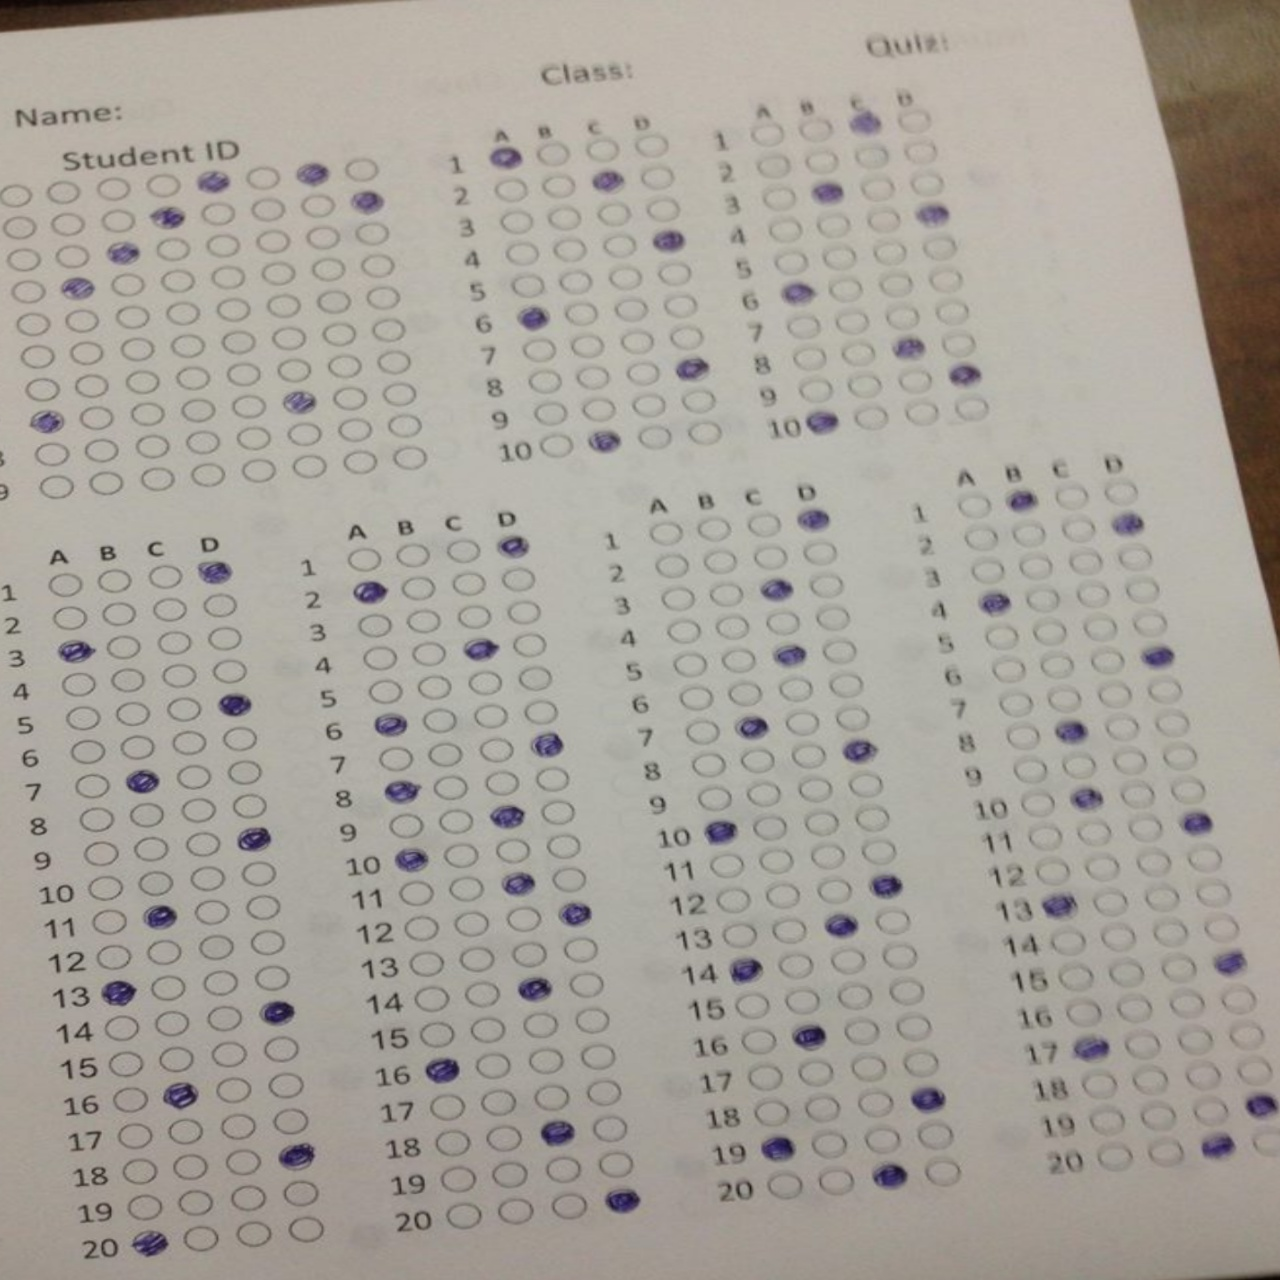not-c: (1091, 1142, 1139, 1173), (1226, 1020, 1269, 1053), (161, 1115, 206, 1145), (1156, 953, 1201, 983), (284, 1214, 331, 1244), (1080, 1069, 1122, 1101), (211, 1077, 256, 1107), (1146, 1136, 1189, 1166), (224, 1149, 266, 1178), (383, 811, 425, 840), (1131, 611, 1173, 640), (1122, 1032, 1167, 1058), (210, 1037, 248, 1069), (809, 840, 847, 872), (566, 971, 610, 999), (768, 917, 811, 945), (467, 1016, 508, 1046), (840, 1016, 881, 1046), (1065, 999, 1107, 1028), (1216, 987, 1257, 1016), (459, 944, 496, 976), (1179, 1024, 1216, 1057), (263, 292, 305, 320), (266, 1070, 308, 1098), (124, 1194, 166, 1223), (918, 234, 960, 263), (813, 605, 856, 633), (115, 1158, 161, 1184), (195, 935, 238, 962), (554, 271, 598, 298), (440, 1201, 483, 1228), (816, 243, 859, 270), (796, 1058, 839, 1085), (1104, 959, 1148, 986), (1183, 1064, 1226, 1091), (116, 1122, 156, 1151), (544, 1155, 584, 1184), (597, 1150, 636, 1179), (815, 877, 855, 906), (1194, 1098, 1234, 1128), (79, 840, 120, 869), (893, 1015, 934, 1043), (1153, 710, 1194, 738), (1133, 1068, 1175, 1096), (105, 1088, 150, 1114), (535, 433, 579, 458), (491, 1158, 529, 1189), (669, 651, 712, 678), (994, 692, 1036, 719), (1114, 996, 1156, 1023), (784, 988, 823, 1017), (899, 1049, 938, 1078), (571, 1008, 611, 1036), (436, 1166, 476, 1194), (763, 881, 803, 910), (824, 281, 867, 307), (225, 760, 266, 787), (443, 876, 484, 903), (865, 206, 906, 233), (887, 979, 928, 1006), (743, 1065, 784, 1092), (915, 1124, 956, 1151), (1080, 853, 1121, 880), (456, 602, 493, 632), (544, 832, 581, 862), (463, 980, 501, 1009), (939, 332, 976, 361), (35, 476, 80, 501), (340, 156, 382, 182), (388, 443, 430, 469), (113, 700, 151, 728), (108, 1049, 147, 1077), (505, 600, 544, 628), (358, 645, 400, 670), (519, 1013, 558, 1041), (531, 1085, 570, 1114), (816, 1167, 855, 1196), (1061, 515, 1099, 543), (1144, 678, 1183, 706), (75, 772, 115, 799), (151, 1009, 191, 1036), (231, 1220, 271, 1247), (474, 701, 513, 728), (431, 1131, 471, 1158), (931, 268, 971, 295), (783, 712, 823, 738), (859, 1126, 899, 1153), (999, 721, 1039, 748), (1074, 821, 1114, 847), (135, 465, 178, 490), (216, 1115, 259, 1139), (750, 152, 794, 177), (816, 640, 859, 665), (1013, 791, 1056, 816), (179, 1190, 216, 1219), (578, 1043, 614, 1073), (762, 184, 798, 213), (285, 421, 326, 447), (519, 701, 560, 727), (794, 379, 835, 404), (735, 745, 776, 771), (1122, 576, 1163, 601), (1160, 745, 1201, 771), (176, 765, 213, 794), (181, 797, 218, 825), (231, 792, 268, 821), (95, 942, 132, 971), (598, 200, 635, 229), (481, 1089, 518, 1117), (87, 471, 125, 498), (206, 1005, 245, 1032), (278, 1180, 316, 1207), (400, 576, 438, 602), (413, 986, 451, 1013), (428, 1094, 467, 1121), (900, 399, 939, 425), (873, 910, 912, 937), (1048, 686, 1087, 713), (1144, 885, 1183, 912), (651, 554, 693, 579), (859, 1090, 893, 1121), (132, 400, 168, 429), (847, 771, 883, 801), (883, 941, 918, 971), (986, 622, 1021, 652), (315, 291, 355, 316), (338, 449, 377, 475), (158, 663, 198, 689), (220, 727, 260, 753), (253, 966, 293, 992), (520, 338, 560, 363), (626, 363, 666, 389), (425, 742, 465, 768), (481, 1125, 520, 1151), (546, 1192, 586, 1218), (712, 615, 751, 641), (673, 686, 713, 712), (733, 992, 772, 1017), (1060, 754, 1099, 779), (1056, 965, 1096, 990), (1169, 990, 1208, 1016), (581, 396, 618, 424), (377, 744, 414, 772), (484, 771, 520, 799), (838, 983, 874, 1012), (1104, 717, 1141, 745), (850, 409, 893, 433), (251, 930, 288, 956), (231, 1183, 268, 1210), (585, 137, 622, 164), (474, 1053, 511, 1080), (586, 1078, 624, 1105), (795, 345, 832, 372), (648, 520, 686, 547), (831, 672, 869, 699), (91, 177, 132, 202), (143, 173, 184, 198), (377, 381, 418, 406), (89, 911, 130, 935), (404, 610, 445, 634), (933, 302, 974, 327), (799, 1096, 840, 1121), (716, 885, 749, 915), (254, 229, 293, 254), (60, 673, 98, 699), (239, 862, 278, 887), (658, 263, 696, 288), (443, 538, 482, 564), (799, 542, 838, 567), (377, 348, 413, 376), (188, 459, 223, 488), (157, 629, 192, 658), (207, 625, 243, 653), (274, 1109, 309, 1137), (622, 328, 658, 356), (906, 173, 948, 197), (738, 1029, 781, 1053), (809, 1133, 851, 1157), (1050, 485, 1092, 509), (1114, 547, 1156, 571), (1009, 760, 1051, 783), (1204, 914, 1239, 942), (48, 605, 88, 629), (166, 697, 206, 722), (441, 844, 481, 869), (859, 840, 899, 865), (829, 949, 869, 974), (1151, 921, 1191, 946), (77, 406, 114, 433), (130, 801, 166, 828), (203, 971, 239, 998), (171, 1155, 207, 1182), (493, 177, 530, 204), (467, 670, 503, 697), (527, 1047, 564, 1074), (885, 304, 921, 331), (799, 778, 836, 805), (778, 953, 815, 980), (922, 1159, 959, 1186), (18, 343, 55, 369), (176, 365, 213, 390), (211, 659, 248, 685), (551, 869, 588, 894), (591, 1117, 628, 1143), (953, 395, 990, 421), (708, 583, 745, 608), (681, 719, 719, 744), (708, 855, 745, 880), (11, 313, 52, 336), (122, 370, 163, 394), (390, 411, 423, 441), (42, 573, 83, 597), (532, 143, 573, 166), (481, 736, 513, 765), (410, 949, 443, 979), (105, 1013, 139, 1041), (45, 181, 83, 205), (67, 341, 105, 366), (230, 394, 268, 418), (118, 735, 157, 760), (148, 975, 186, 1000), (546, 206, 585, 231), (638, 424, 676, 449), (401, 915, 440, 940), (418, 1023, 457, 1048), (748, 121, 787, 145), (799, 116, 838, 141), (721, 925, 760, 949), (1034, 859, 1073, 884), (103, 601, 138, 628), (263, 1037, 298, 1064), (635, 132, 670, 159), (751, 813, 787, 840), (758, 847, 794, 874), (168, 731, 210, 754), (63, 309, 100, 335), (113, 305, 149, 331), (72, 373, 108, 399), (154, 598, 190, 624), (72, 740, 108, 765), (395, 543, 431, 568), (369, 678, 406, 703), (658, 585, 694, 611), (778, 676, 815, 702), (855, 806, 891, 832), (1141, 1104, 1177, 1130), (32, 442, 72, 465), (233, 427, 273, 450), (898, 369, 938, 393), (806, 576, 846, 599), (1039, 654, 1078, 678), (22, 377, 60, 402), (275, 360, 313, 384), (63, 706, 101, 730), (613, 298, 651, 322), (501, 568, 538, 593), (536, 764, 568, 792), (496, 1198, 533, 1223), (763, 1175, 801, 1199), (1087, 648, 1124, 673), (1118, 783, 1156, 808), (147, 939, 181, 966), (648, 198, 682, 225), (806, 147, 840, 173), (244, 168, 285, 190), (132, 838, 173, 860), (508, 275, 549, 298), (1183, 847, 1224, 870), (248, 199, 287, 223), (211, 266, 246, 292), (217, 298, 252, 324), (237, 461, 275, 484), (606, 266, 641, 292), (665, 292, 700, 318), (683, 390, 719, 416), (348, 547, 383, 573), (410, 644, 449, 667), (519, 666, 554, 692), (506, 905, 542, 931), (896, 105, 931, 131), (788, 315, 826, 339), (840, 343, 876, 369), (700, 550, 738, 573), (721, 648, 756, 674), (803, 811, 838, 837), (1171, 778, 1206, 804), (1235, 1061, 1274, 1084), (162, 271, 198, 295), (181, 397, 217, 422), (185, 832, 222, 857), (186, 866, 223, 891), (158, 1046, 195, 1070), (505, 243, 542, 267), (553, 238, 590, 263), (513, 633, 550, 658), (420, 707, 456, 731), (846, 376, 883, 401), (663, 618, 700, 642), (851, 1053, 883, 1081), (108, 669, 148, 692), (836, 704, 869, 731), (1013, 522, 1046, 549), (1196, 881, 1228, 908), (1103, 922, 1136, 949), (302, 195, 340, 218), (155, 237, 192, 260), (322, 324, 360, 347), (355, 613, 393, 636), (745, 515, 783, 538), (765, 611, 803, 634), (751, 1102, 789, 1125), (964, 526, 1001, 550), (1027, 825, 1064, 849), (772, 248, 806, 274), (227, 363, 263, 388), (132, 435, 168, 459), (340, 417, 375, 442), (97, 568, 132, 593), (80, 808, 115, 832), (138, 871, 173, 896), (540, 173, 576, 198), (686, 422, 721, 447), (438, 811, 474, 836), (513, 942, 549, 967), (836, 311, 871, 335), (749, 782, 784, 806), (312, 260, 350, 282), (448, 573, 486, 595), (850, 144, 888, 166), (788, 745, 826, 768), (1097, 685, 1136, 707), (13, 278, 45, 305), (110, 274, 147, 298), (186, 430, 223, 454), (290, 455, 326, 478), (202, 594, 238, 618), (526, 369, 563, 393), (416, 675, 452, 699), (272, 325, 305, 350), (1085, 615, 1118, 641), (1092, 893, 1132, 914), (535, 401, 568, 425), (430, 777, 468, 799), (688, 753, 726, 775), (697, 787, 735, 809), (1103, 481, 1141, 503), (1021, 588, 1058, 611), (205, 234, 240, 258), (105, 634, 141, 658), (571, 335, 606, 359), (577, 367, 612, 390), (903, 139, 938, 163), (873, 241, 908, 265), (1078, 585, 1114, 608), (1114, 750, 1149, 774), (1133, 851, 1169, 874), (1051, 930, 1087, 953), (1094, 1110, 1129, 1133), (4, 215, 35, 240), (118, 340, 157, 361), (150, 563, 182, 588), (243, 897, 281, 918), (673, 324, 704, 349), (165, 302, 202, 325), (89, 877, 125, 899), (640, 166, 676, 189), (629, 394, 666, 416), (696, 519, 733, 542), (728, 682, 764, 704), (307, 226, 340, 251), (263, 263, 295, 287), (223, 331, 256, 355), (567, 302, 600, 327), (368, 286, 402, 309), (333, 388, 367, 411), (195, 899, 229, 922), (961, 493, 990, 520), (1, 182, 32, 207), (455, 913, 490, 935), (751, 546, 787, 568), (1019, 558, 1054, 580), (363, 254, 395, 279), (401, 880, 433, 905), (564, 939, 595, 964), (1069, 551, 1101, 576), (358, 223, 390, 246), (185, 1227, 218, 1251), (543, 799, 576, 823), (1033, 621, 1069, 642), (200, 203, 234, 225), (57, 246, 91, 268), (988, 661, 1026, 681), (100, 211, 132, 233), (878, 274, 911, 297), (86, 440, 120, 461), (816, 216, 850, 237), (862, 178, 892, 202), (501, 213, 536, 233), (1128, 821, 1163, 840), (172, 336, 205, 358), (605, 237, 638, 258), (496, 840, 529, 862), (971, 561, 1003, 583), (375, 319, 406, 341), (52, 213, 83, 234), (771, 222, 803, 243), (328, 356, 361, 376), (7, 250, 38, 271)
taken-c: (904, 1081, 956, 1121), (156, 1076, 203, 1114), (869, 1158, 912, 1198), (271, 1142, 324, 1171), (125, 1228, 173, 1260), (392, 846, 440, 878), (1175, 810, 1224, 840), (754, 1137, 804, 1166), (1041, 890, 1085, 922), (673, 353, 719, 384), (885, 334, 933, 363), (379, 776, 421, 809), (136, 901, 183, 931), (1051, 719, 1095, 750), (719, 958, 763, 988), (1071, 783, 1111, 817), (50, 636, 98, 665), (418, 1057, 467, 1085), (556, 897, 597, 930), (542, 1117, 581, 1150), (778, 279, 823, 308), (100, 237, 141, 268), (511, 974, 553, 1005), (511, 302, 554, 332), (1208, 949, 1247, 982), (601, 1189, 648, 1216), (368, 712, 408, 743), (1069, 1033, 1109, 1064), (647, 227, 692, 256), (789, 1023, 833, 1051), (488, 803, 529, 833), (1133, 646, 1182, 672), (493, 530, 533, 560), (501, 872, 542, 901), (760, 573, 801, 602), (794, 508, 838, 535), (213, 692, 256, 720), (819, 914, 862, 942), (971, 588, 1013, 617), (1197, 1132, 1235, 1163), (193, 560, 237, 587), (258, 1001, 301, 1028), (122, 769, 166, 795), (946, 365, 988, 392), (1241, 1091, 1280, 1121), (461, 636, 501, 665), (233, 828, 274, 855), (696, 821, 737, 847), (731, 715, 776, 740), (101, 979, 136, 1009), (866, 874, 903, 904), (1107, 511, 1143, 540), (590, 169, 631, 195), (585, 429, 626, 455), (195, 169, 232, 197), (293, 158, 331, 186), (527, 735, 570, 760), (350, 580, 393, 605), (281, 389, 318, 417), (771, 642, 809, 669), (810, 178, 847, 205), (913, 202, 948, 230), (55, 275, 95, 300), (350, 189, 388, 215), (803, 410, 840, 436), (145, 205, 188, 227), (1005, 489, 1041, 515), (28, 410, 67, 434), (838, 738, 877, 762), (490, 145, 526, 170), (847, 111, 883, 136)
